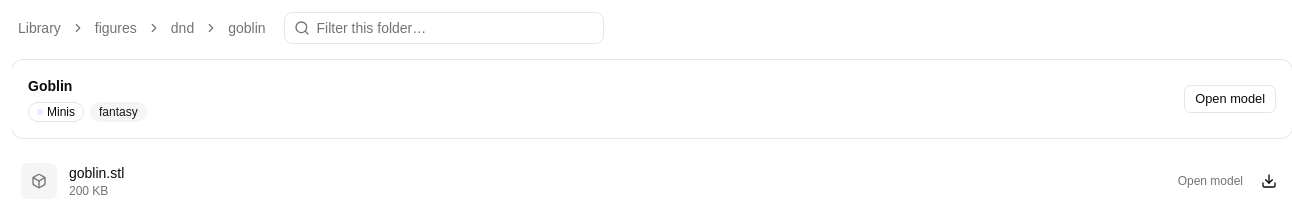
Test: FolderBrowser › filters folders and files by the in-folder text filter, client-side
Expected: the text "goblin.stl" is shown, [69,165,124,181]
Type "nomatch" into the field labelled "Filter this folder" at (444, 28), box [284,12,604,44]
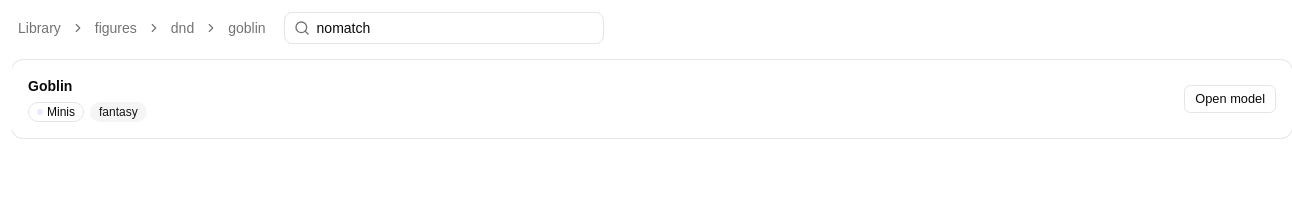
Now the text "goblin.stl" is gone
